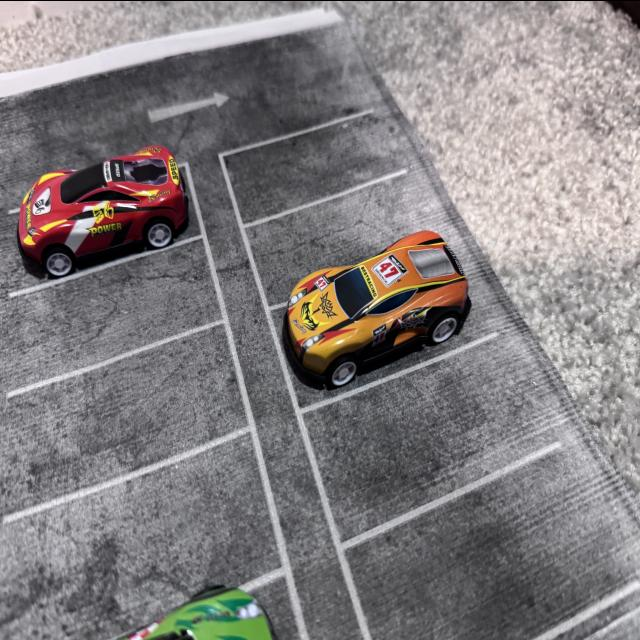Car: (266, 171, 530, 375), (45, 533, 360, 640), (21, 136, 198, 290)
